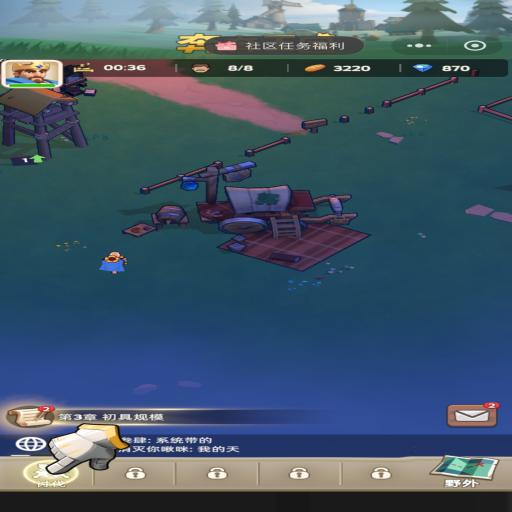newcomer_hand: (43, 423, 130, 474)
